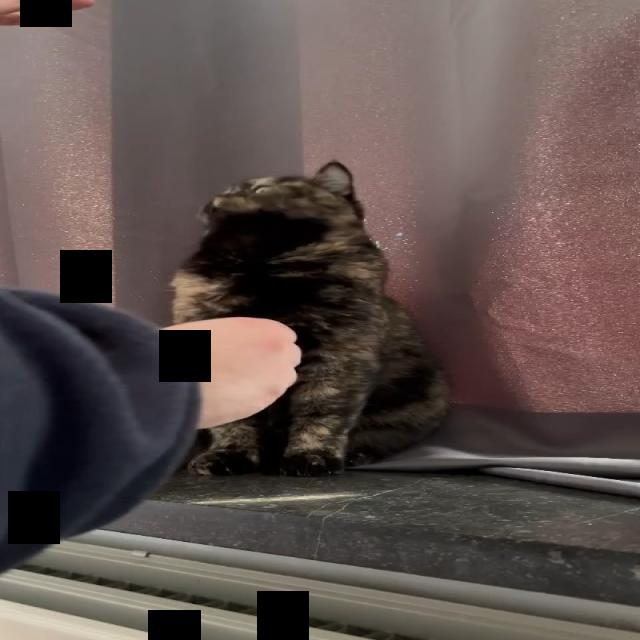authorized: (167, 159, 452, 477)
